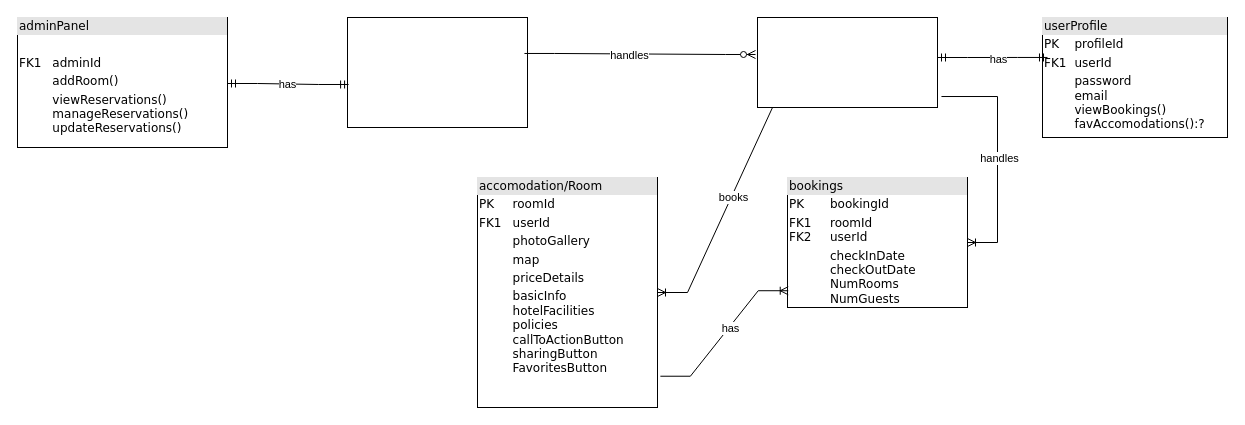
This 1245x425 diagram has some shape labels left out. Here are the shapes that lost their labels. From the top down, the centre of each, then its label:
(x=437, y=72): admin PK adminId FK1 FK2 userId roomId email password
(x=847, y=62): user PK userId FK1 password email
